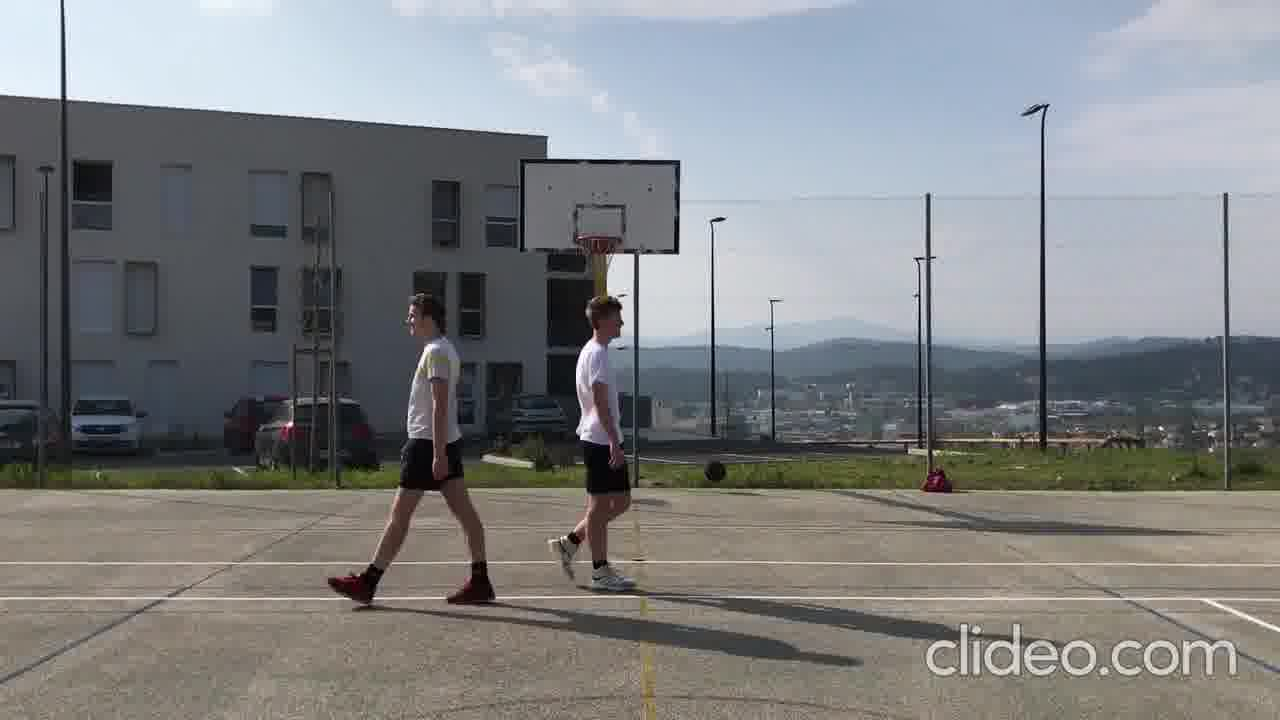jugador: (317, 278, 508, 614)
